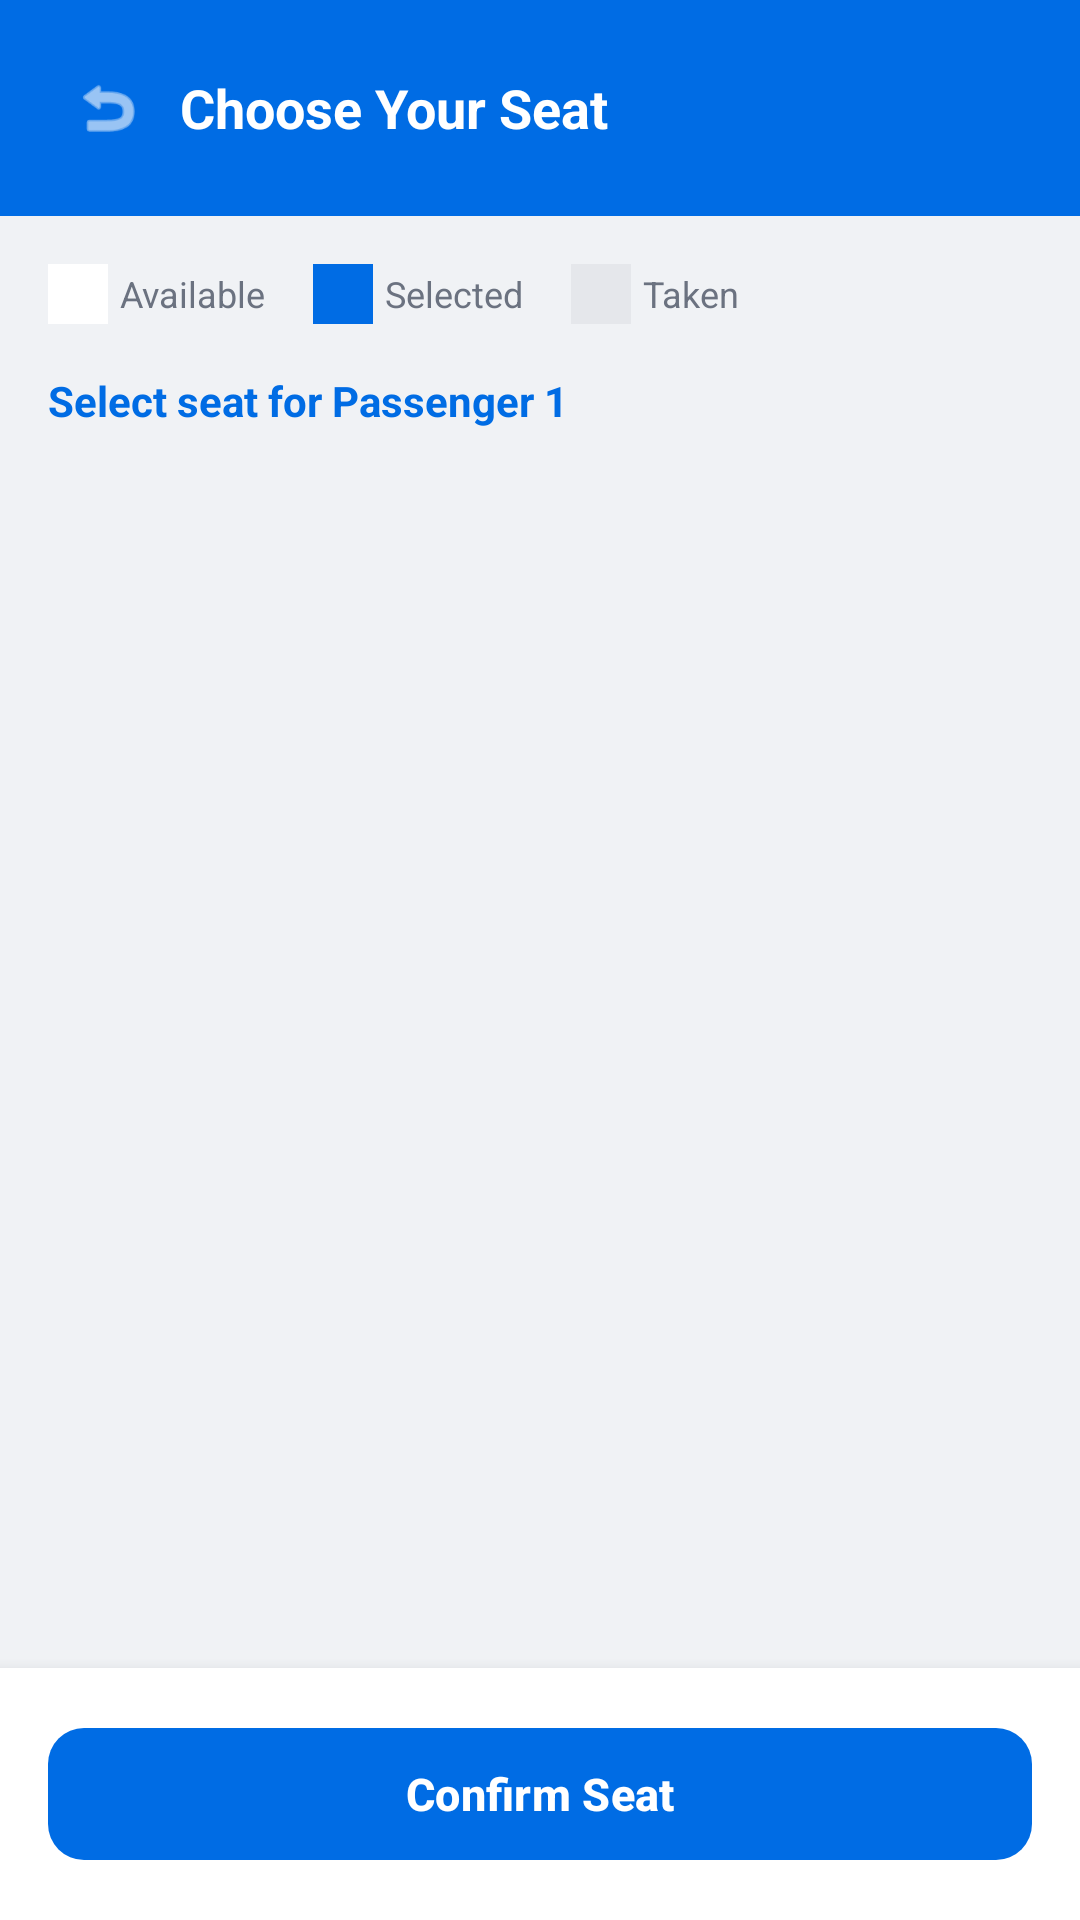

Where icons sit on this 1080px×1920px app screen, as (x1,y1,x2,y2):
revert: (83,85,135,132)
